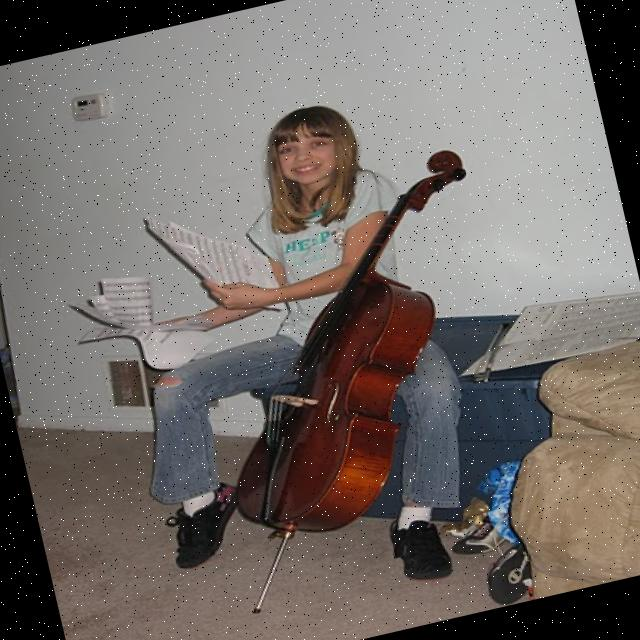cello: (165, 143, 542, 555)
